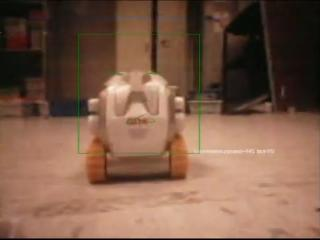cozmo: (84, 69, 189, 183)
